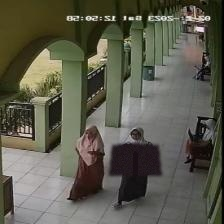Cadar_Niqab: (109, 127, 161, 175)
